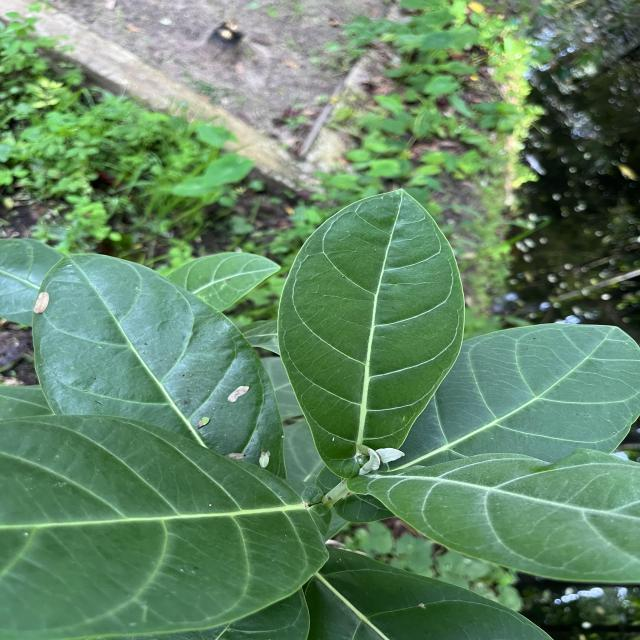Calotropis gigantea: (275, 185, 469, 478), (31, 252, 284, 468), (347, 445, 640, 584), (413, 320, 640, 465)
